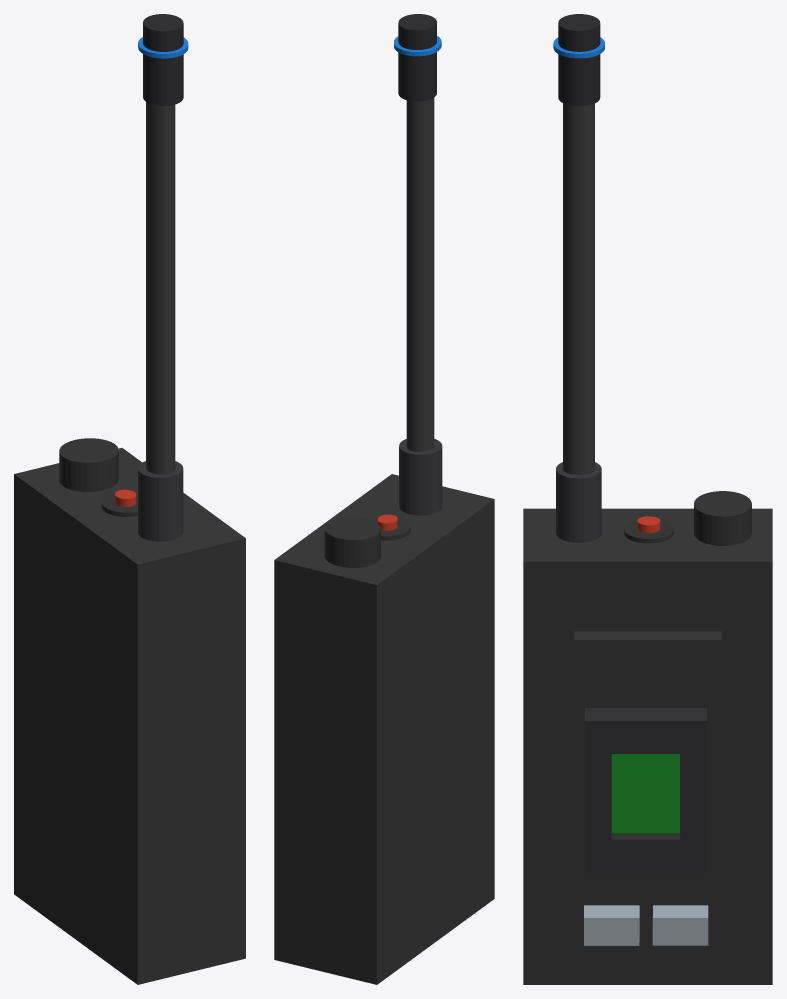
The model's file is Walkie talkie.fbx.
The picture shows the model from 3 angles, left to right: view 1: azimuth 30°, elevation 25°; view 2: azimuth 150°, elevation 25°; view 3: azimuth 270°, elevation 25°; orthographic projection. The views are drawn at different scales.
Visible parts, largest first — view 1: Cube, Cylinder, Cylinder.001, Cylinder.002, Cylinder.004, Cylinder.005; view 2: Cube, Cylinder, Cylinder.001, Cylinder.002, Cylinder.004; view 3: Cube, Cube.001, Cylinder, Cube.002, Cylinder.001, Cylinder.002, Cylinder.004, Cube.004, Cube.003, Cylinder.005.
Part boxes in pixels (x1,y1,x2,y2): Cube: [14, 448, 245, 984]; Cylinder: [146, 102, 175, 474]; Cylinder.001: [143, 14, 183, 105]; Cylinder.002: [138, 461, 183, 541]; Cylinder.004: [59, 438, 118, 491]; Cylinder.005: [101, 493, 137, 516]; Cube: [274, 474, 494, 984]; Cylinder: [406, 97, 434, 451]; Cylinder.001: [398, 14, 436, 101]; Cylinder.002: [399, 439, 442, 515]; Cylinder.004: [324, 516, 380, 567]; Cube: [523, 508, 772, 984]; Cube.001: [585, 708, 706, 872]; Cylinder: [563, 103, 594, 474]; Cube.002: [611, 754, 679, 833]; Cylinder.001: [558, 14, 600, 106]; Cylinder.002: [556, 462, 601, 542]; Cylinder.004: [694, 491, 751, 545]; Cube.004: [652, 905, 708, 945]; Cube.003: [584, 905, 639, 945]; Cylinder.005: [624, 519, 673, 543].
Size of the model in its own units: 95.35 by 630 by 152.
